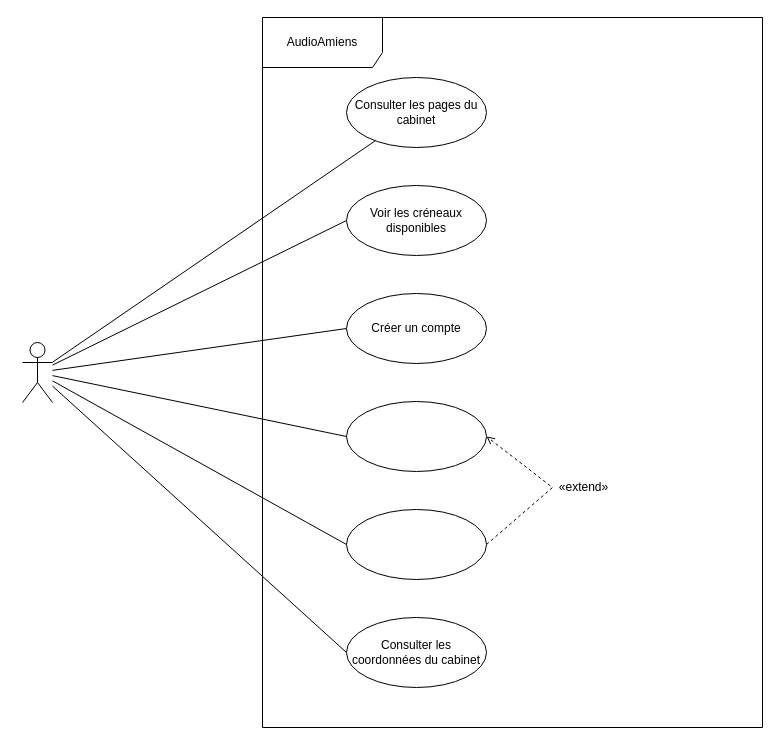
The diagram is 780 pixels wide and 745 high, and some of its shapes have lost their labels. The centre of each missing label's shape, as x and y in pixels:
Réinitialiser son mot de passe: (416,544)
Se connecter: (416,436)
Visiteur: (37,372)
